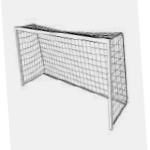goals: (13, 21, 129, 131)
